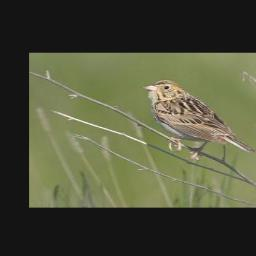Sparrow: (142, 79, 256, 161)
